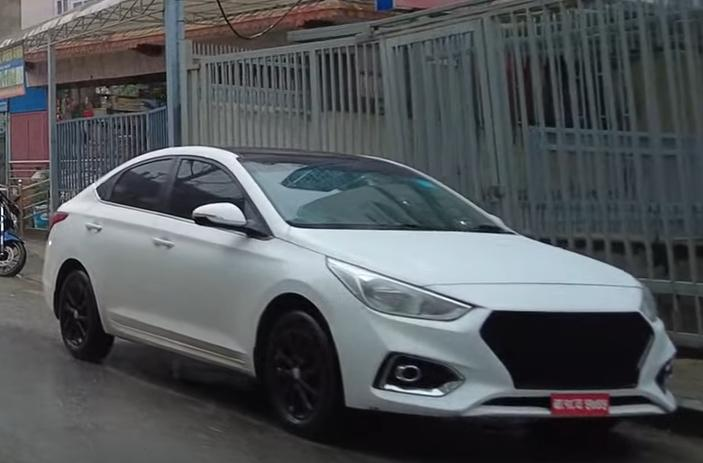bike: (0, 182, 27, 283)
car: (53, 146, 678, 444)
